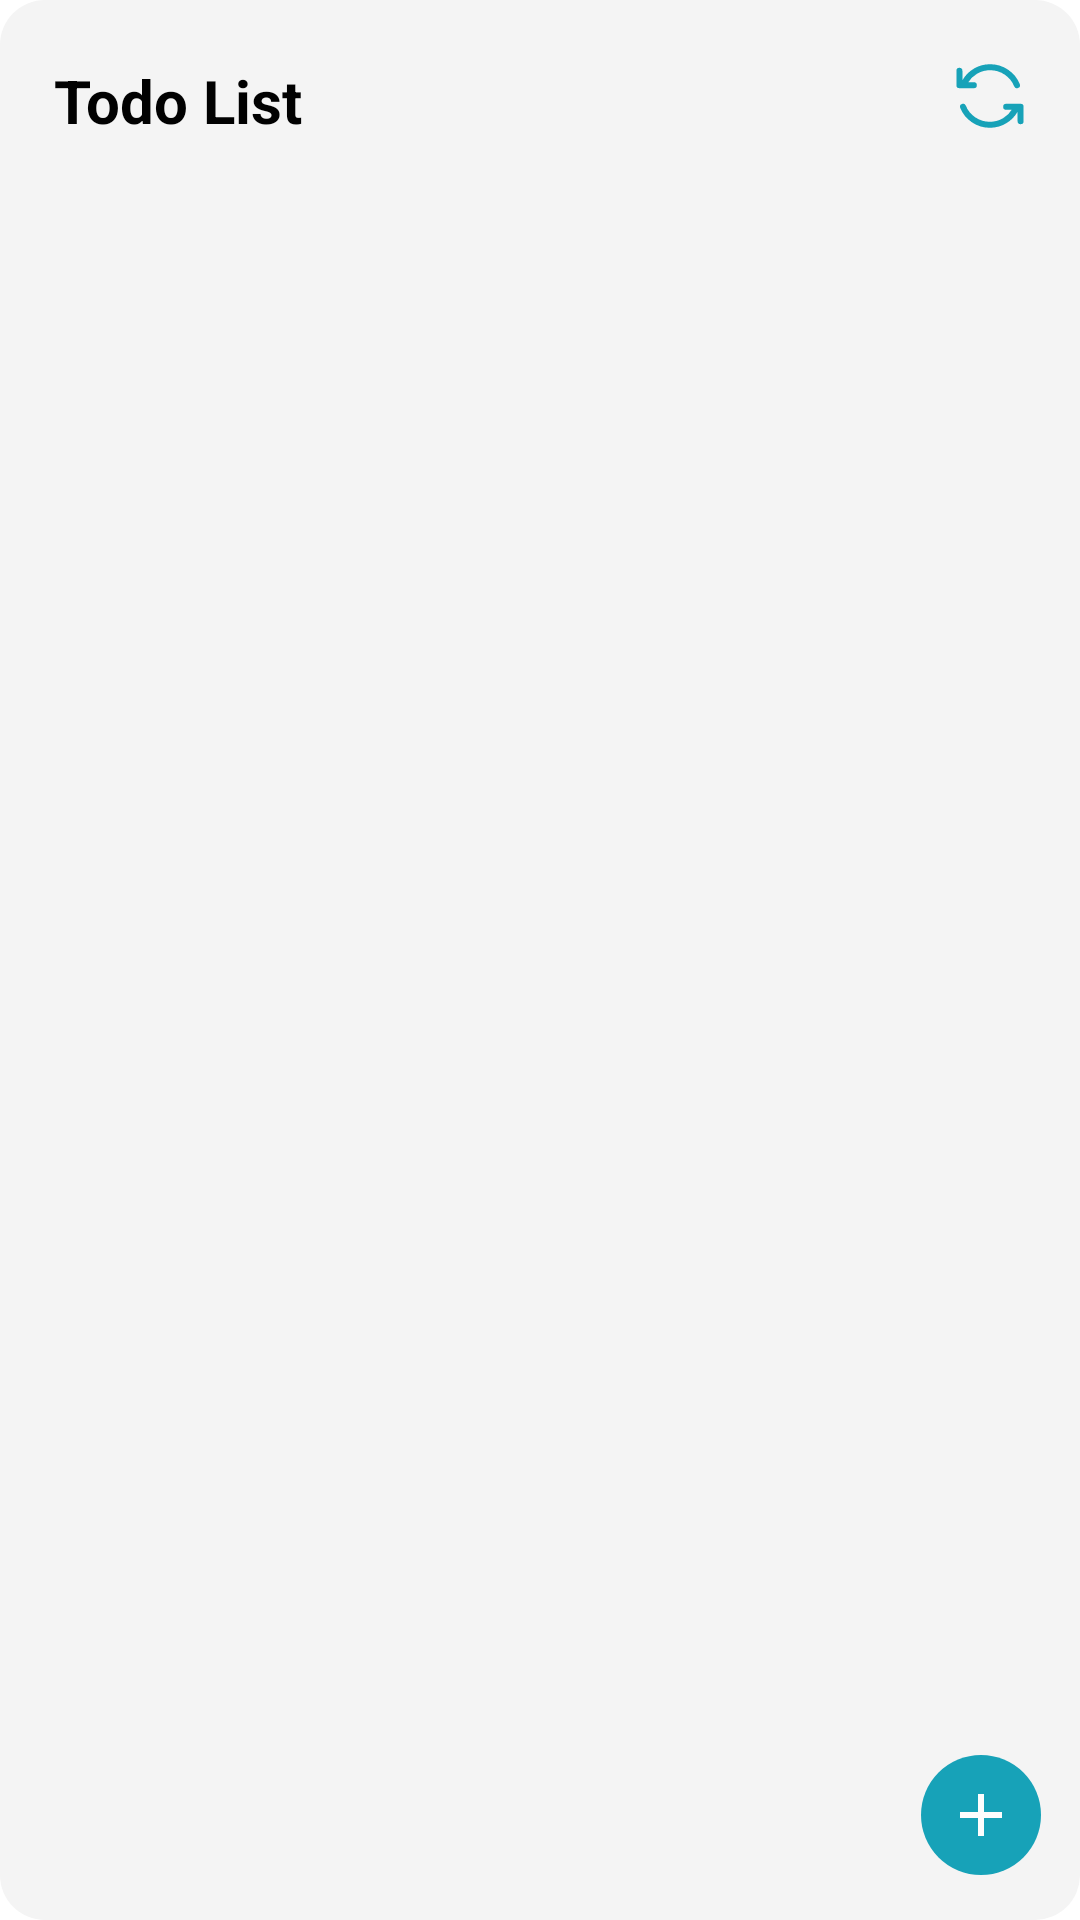

Where to tap for icons on this 1080x1920 app screen, as point (x, y):
arrow refresh: point (990, 96)
mini fab: point (981, 1815)
